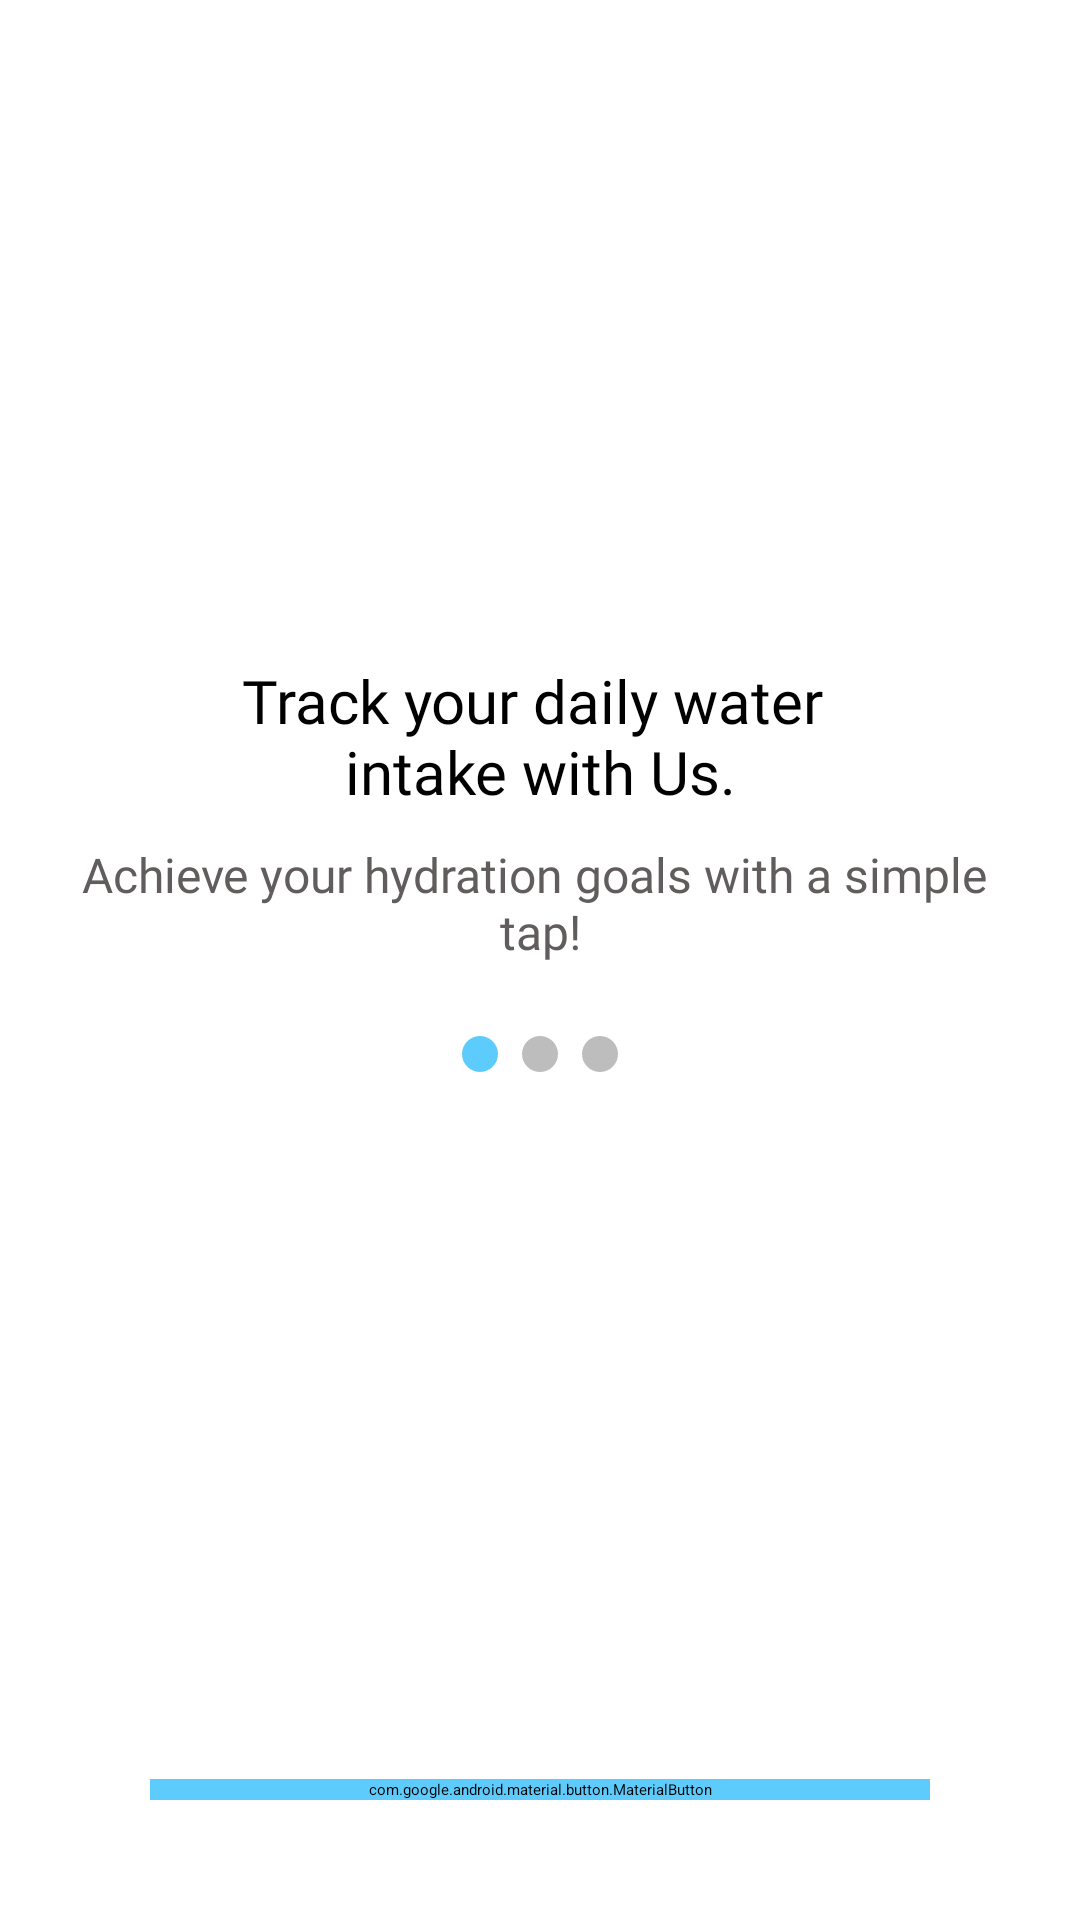

Where icons sit on this 1080px×1920px app screen, as bbox(x1, y1, x2, y2):
dot: bbox(462, 1036, 498, 1072), bbox(522, 1036, 558, 1072), bbox(582, 1036, 618, 1072)
